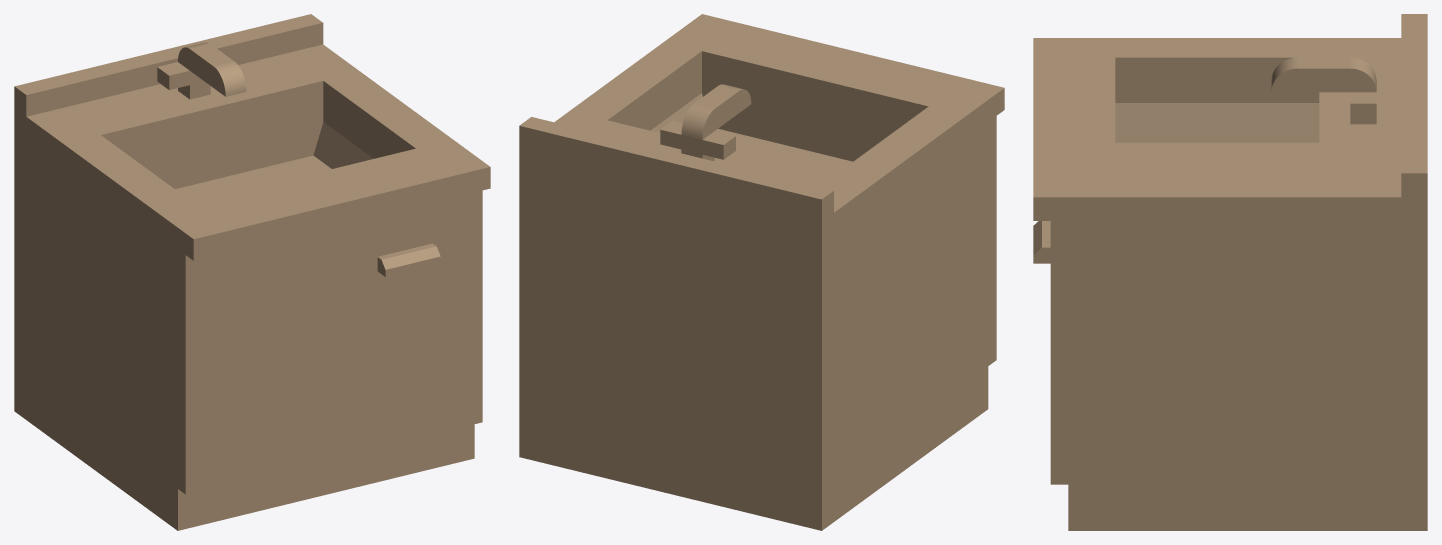
File: kitchen_sink.glb
3 views of the same model, side by side, from view 1: azimuth 30°, elevation 25°; view 2: azimuth 150°, elevation 25°; view 3: azimuth 270°, elevation 25° (orthographic). The views are drawn at different scales.
Visible parts, largest first — view 1: kitchenSink(Clone), door; view 2: kitchenSink(Clone); view 3: kitchenSink(Clone), door.
Boxes of the visible parts, box(x1,y1,x2,y2) form: kitchenSink(Clone): box(14, 14, 490, 530); door: box(204, 206, 463, 470); kitchenSink(Clone): box(519, 14, 1004, 530); kitchenSink(Clone): box(1033, 14, 1427, 530); door: box(1033, 221, 1050, 263).
Size of the model in its own units: 0.903 by 1.03 by 0.945.
